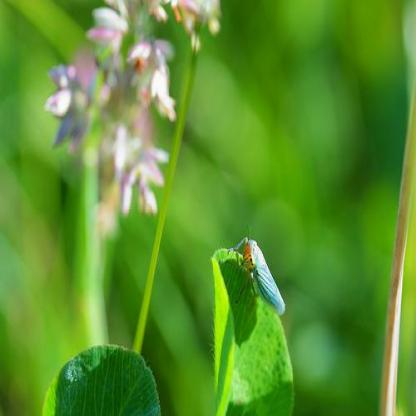Green-Leafhopper: (232, 225, 287, 317)
